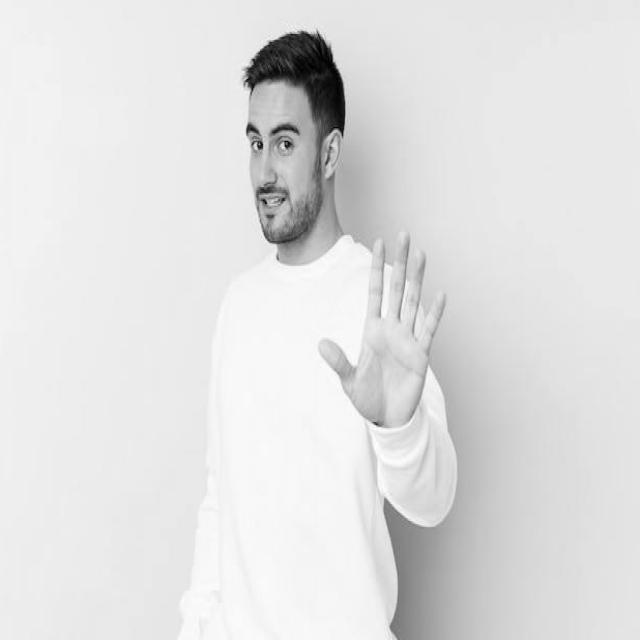stop: (314, 224, 452, 433)
